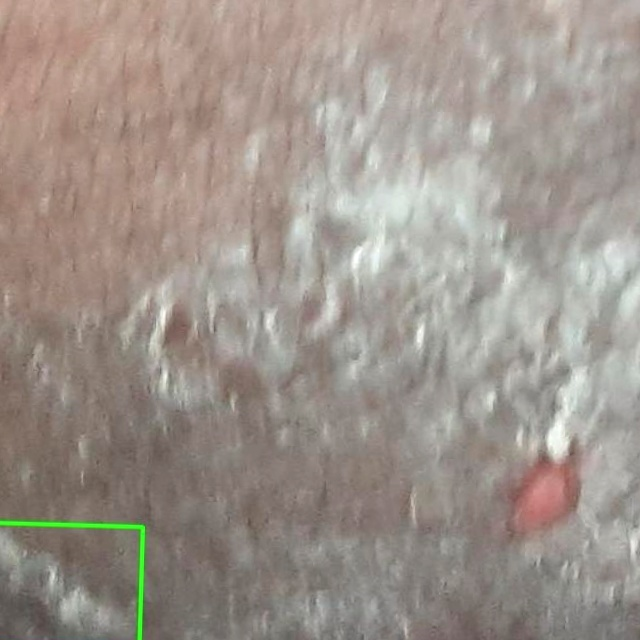Eczema: (0, 522, 142, 639)
